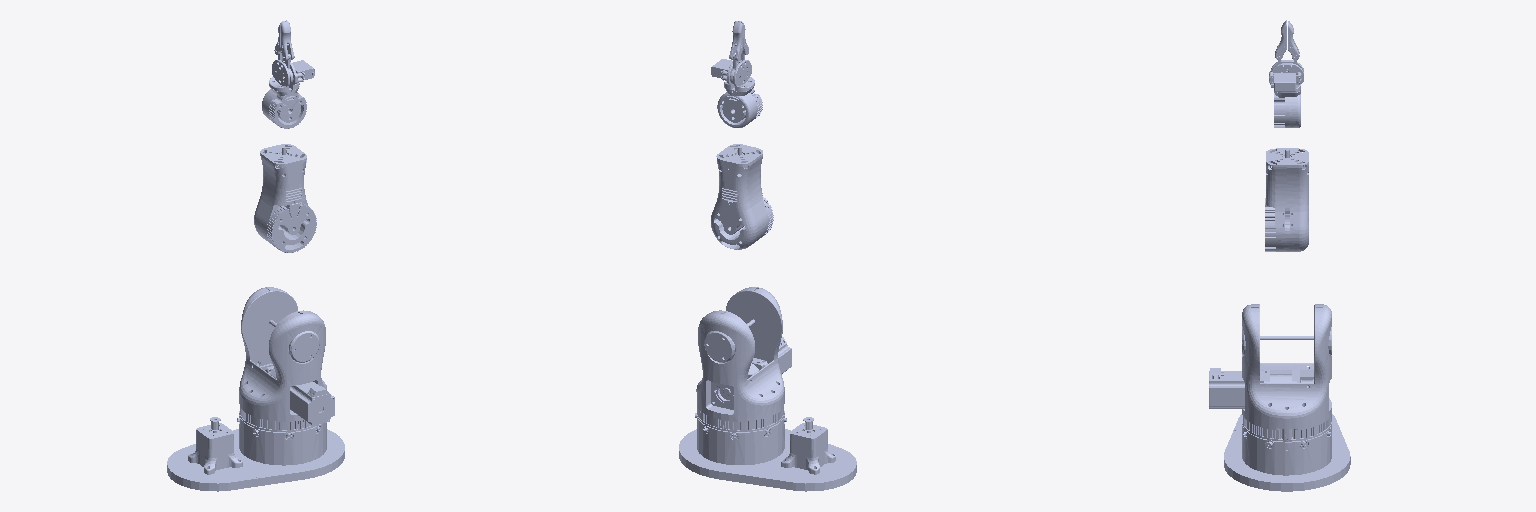
URDF robot description (urdf_v14):
<?xml version="1.0" encoding="utf-8"?>
<!-- This URDF was automatically created by SolidWorks to URDF Exporter! Originally created by [author] ([email redacted]) 
     Commit Version: 1.6.0-4-g7f85cfe  Build Version: 1.6.7995.38578
     For more information, please see http://wiki.ros.org/sw_urdf_exporter -->
<robot
  name="urdf_v14">
  <link
    name="base">
    <inertial>
      <origin
        xyz="-0.0130028990840682 0.00737220231148084 0.0288621094500895"
        rpy="0 0 0" />
      <mass
        value="1.80445500079186" />
      <inertia
        ixx="0.00556780003577727"
        ixy="1.30781796461846E-06"
        ixz="-0.000488105095997363"
        iyy="0.0133501953719257"
        iyz="4.44454278203137E-07"
        izz="0.0165442925617419" />
    </inertial>
    <visual>
      <origin
        xyz="0 0 0"
        rpy="0 0 0" />
      <geometry>
        <mesh
          filename="package://urdf_v14/meshes/base.STL" />
      </geometry>
      <material
        name="">
        <color
          rgba="0.792156862745098 0.819607843137255 0.933333333333333 1" />
      </material>
    </visual>
    <collision>
      <origin
        xyz="0 0 0"
        rpy="0 0 0" />
      <geometry>
        <mesh
          filename="package://urdf_v14/meshes/base.STL" />
      </geometry>
    </collision>
  </link>
  <link
    name="base_link ">
    <inertial>
      <origin
        xyz="0.0321972293709568 -0.00450790666487971 0.341236918647023"
        rpy="0 0 0" />
      <mass
        value="2.09089553432608" />
      <inertia
        ixx="0.0136131889403249"
        ixy="2.90618833897183E-06"
        ixz="-3.06670536445142E-05"
        iyy="0.00966544701473819"
        iyz="-0.00040890472579642"
        izz="0.00889750808908611" />
    </inertial>
    <visual>
      <origin
        xyz="0 0 0"
        rpy="0 0 0" />
      <geometry>
        <mesh
          filename="package://urdf_v14/meshes/base_link .STL" />
      </geometry>
      <material
        name="">
        <color
          rgba="0.792156862745098 0.819607843137255 0.933333333333333 1" />
      </material>
    </visual>
    <collision>
      <origin
        xyz="0 0 0"
        rpy="0 0 0" />
      <geometry>
        <mesh
          filename="package://urdf_v14/meshes/base_link .STL" />
      </geometry>
    </collision>
  </link>
  <joint
    name="joint_1"
    type="continuous">
    <origin
      xyz="-0.00106805874828991 0 -0.178116650409825"
      rpy="0 0 0" />
    <parent
      link="base" />
    <child
      link="base_link " />
    <axis
      xyz="0 0 1" />
  </joint>
  <link
    name="shoulder">
    <inertial>
      <origin
        xyz="0.0327109438247253 0.0090061483727204 0.338475981389051"
        rpy="0 0 0" />
      <mass
        value="1.9311319529274" />
      <inertia
        ixx="0.0170862683816139"
        ixy="3.46358389032188E-06"
        ixz="4.83215863715807E-06"
        iyy="0.0162697573913769"
        iyz="-0.000123095312524171"
        izz="0.00359988578300223" />
    </inertial>
    <visual>
      <origin
        xyz="0 0 0"
        rpy="0 0 0" />
      <geometry>
        <mesh
          filename="package://urdf_v14/meshes/shoulder.STL" />
      </geometry>
      <material
        name="">
        <color
          rgba="0.792156862745098 0.819607843137255 0.933333333333333 1" />
      </material>
    </visual>
    <collision>
      <origin
        xyz="0 0 0"
        rpy="0 0 0" />
      <geometry>
        <mesh
          filename="package://urdf_v14/meshes/shoulder.STL" />
      </geometry>
    </collision>
  </link>
  <joint
    name="joint_2"
    type="continuous">
    <origin
      xyz="0 0 0.166937311025839"
      rpy="0 0 0" />
    <parent
      link="base_link " />
    <child
      link="shoulder" />
    <axis
      xyz="0 1 0" />
  </joint>
  <link
    name="elbow">
    <inertial>
      <origin
        xyz="0.0326670642713736 0.00715912581431416 0.30158523565309"
        rpy="0 0 0" />
      <mass
        value="0.777952679552694" />
      <inertia
        ixx="0.00228134086893177"
        ixy="-7.58975274749229E-08"
        ixz="-7.86405962820521E-06"
        iyy="0.00230093019963911"
        iyz="-3.06257703670829E-05"
        izz="0.00073073367472752" />
    </inertial>
    <visual>
      <origin
        xyz="0 0 0"
        rpy="0 0 0" />
      <geometry>
        <mesh
          filename="package://urdf_v14/meshes/elbow.STL" />
      </geometry>
      <material
        name="">
        <color
          rgba="0.792156862745098 0.819607843137255 0.933333333333333 1" />
      </material>
    </visual>
    <collision>
      <origin
        xyz="0 0 0"
        rpy="0 0 0" />
      <geometry>
        <mesh
          filename="package://urdf_v14/meshes/elbow.STL" />
      </geometry>
    </collision>
  </link>
  <joint
    name="joint_3"
    type="continuous">
    <origin
      xyz="0 0 0.221123792803555"
      rpy="0 0 0" />
    <parent
      link="shoulder" />
    <child
      link="elbow" />
    <axis
      xyz="0 1 0" />
  </joint>
  <link
    name="wrist_1">
    <inertial>
      <origin
        xyz="0.0335604176878077 0.00990372062900691 0.314139265995466"
        rpy="0 0 0" />
      <mass
        value="0.336033424374674" />
      <inertia
        ixx="0.000698625637496854"
        ixy="-1.01631185415773E-06"
        ixz="3.1611007634969E-06"
        iyy="0.000573509159553982"
        iyz="1.12152122482314E-05"
        izz="0.000348769119501591" />
    </inertial>
    <visual>
      <origin
        xyz="0 0 0"
        rpy="0 0 0" />
      <geometry>
        <mesh
          filename="package://urdf_v14/meshes/wrist_1.STL" />
      </geometry>
      <material
        name="">
        <color
          rgba="0.792156862745098 0.819607843137255 0.933333333333333 1" />
      </material>
    </visual>
    <collision>
      <origin
        xyz="0 0 0"
        rpy="0 0 0" />
      <geometry>
        <mesh
          filename="package://urdf_v14/meshes/wrist_1.STL" />
      </geometry>
    </collision>
  </link>
  <joint
    name="joint_4"
    type="continuous">
    <origin
      xyz="0 0.000500999999999197 0.129539254362447"
      rpy="0 0 0" />
    <parent
      link="elbow" />
    <child
      link="wrist_1" />
    <axis
      xyz="0 0 1" />
  </joint>
  <link
    name="wrist_2">
    <inertial>
      <origin
        xyz="0.0336476738493878 0.00774576257756454 0.262759833128953"
        rpy="0 0 0" />
      <mass
        value="0.158623996627696" />
      <inertia
        ixx="8.93586388886451E-05"
        ixy="-5.51302960471509E-09"
        ixz="-1.3377108412577E-07"
        iyy="0.00010631852912948"
        iyz="-6.19861774850427E-07"
        izz="7.50986760103092E-05" />
    </inertial>
    <visual>
      <origin
        xyz="0 0 0"
        rpy="0 0 0" />
      <geometry>
        <mesh
          filename="package://urdf_v14/meshes/wrist_2.STL" />
      </geometry>
      <material
        name="">
        <color
          rgba="0.792156862745098 0.819607843137255 0.933333333333333 1" />
      </material>
    </visual>
    <collision>
      <origin
        xyz="0 0 0"
        rpy="0 0 0" />
      <geometry>
        <mesh
          filename="package://urdf_v14/meshes/wrist_2.STL" />
      </geometry>
    </collision>
  </link>
  <joint
    name="joint_5"
    type="continuous">
    <origin
      xyz="0 0 0.0989607456375549"
      rpy="0 0 0" />
    <parent
      link="wrist_1" />
    <child
      link="wrist_2" />
    <axis
      xyz="0 1 0" />
  </joint>
  <link
    name="gripper_base">
    <inertial>
      <origin
        xyz="0.049310734264296 0.00595051508193845 0.987870668668528"
        rpy="0 0 0" />
      <mass
        value="0.0669550620915273" />
      <inertia
        ixx="2.24619079422005E-05"
        ixy="2.35944484334568E-06"
        ixz="-2.80744907463445E-06"
        iyy="3.18452557805142E-05"
        iyz="3.46640737232404E-07"
        izz="3.67915443984289E-05" />
    </inertial>
    <visual>
      <origin
        xyz="0 0 0"
        rpy="0 0 0" />
      <geometry>
        <mesh
          filename="package://urdf_v14/meshes/gripper_base.STL" />
      </geometry>
      <material
        name="">
        <color
          rgba="0.792156862745098 0.819607843137255 0.933333333333333 1" />
      </material>
    </visual>
    <collision>
      <origin
        xyz="0 0 0"
        rpy="0 0 0" />
      <geometry>
        <mesh
          filename="package://urdf_v14/meshes/gripper_base.STL" />
      </geometry>
    </collision>
  </link>
  <joint
    name="joint_6"
    type="fixed">
    <origin
      xyz="0 -0.000501000000000529 -0.666561103829396"
      rpy="0 0 0" />
    <parent
      link="wrist_2" />
    <child
      link="gripper_base" />
    <axis
      xyz="0 0 0" />
  </joint>
  <link
    name="gear1">
    <inertial>
      <origin
        xyz="0.0205215425307574 -0.168935803411292 -0.0148668300200882"
        rpy="0 0 0" />
      <mass
        value="0.0043827310815076" />
      <inertia
        ixx="9.89298062105413E-07"
        ixy="3.939807965992E-09"
        ixz="-9.62445280927115E-10"
        iyy="1.88757936769923E-07"
        iyz="4.03528750728449E-08"
        izz="8.26425730216098E-07" />
    </inertial>
    <visual>
      <origin
        xyz="0 0 0"
        rpy="0 0 0" />
      <geometry>
        <mesh
          filename="package://urdf_v14/meshes/gear1.STL" />
      </geometry>
      <material
        name="">
        <color
          rgba="0.792156862745098 0.819607843137255 0.933333333333333 1" />
      </material>
    </visual>
    <collision>
      <origin
        xyz="0 0 0"
        rpy="0 0 0" />
      <geometry>
        <mesh
          filename="package://urdf_v14/meshes/gear1.STL" />
      </geometry>
    </collision>
  </link>
  <joint
    name="joint_7"
    type="continuous">
    <origin
      xyz="0.012918 0.0098964 0.83019"
      rpy="-1.557 0.0046185 0.0046825" />
    <parent
      link="gripper_base" />
    <child
      link="gear1" />
    <axis
      xyz="0.99999 0 -0.0046829" />
  </joint>
  <link
    name="leg1-1">
    <inertial>
      <origin
        xyz="0.0277829222233545 -0.0168341353236492 0.208304045603814"
        rpy="0 0 0" />
      <mass
        value="0.0106754301777324" />
      <inertia
        ixx="4.10204619035355E-06"
        ixy="-4.70379078915132E-09"
        ixz="-2.62404591930172E-08"
        iyy="4.17675992343615E-06"
        iyz="-6.39733993511733E-07"
        izz="5.77343753638436E-07" />
    </inertial>
    <visual>
      <origin
        xyz="0 0 0"
        rpy="0 0 0" />
      <geometry>
        <mesh
          filename="package://urdf_v14/meshes/leg1-1.STL" />
      </geometry>
      <material
        name="">
        <color
          rgba="0.792156862745098 0.819607843137255 0.933333333333333 1" />
      </material>
    </visual>
    <collision>
      <origin
        xyz="0 0 0"
        rpy="0 0 0" />
      <geometry>
        <mesh
          filename="package://urdf_v14/meshes/leg1-1.STL" />
      </geometry>
    </collision>
  </link>
  <joint
    name="joint_11"
    type="fixed">
    <origin
      xyz="-0.0058669 -0.019902 0.0073019"
      rpy="1.557 0.0046185 -0.0046825" />
    <parent
      link="gear1" />
    <child
      link="leg1-1" />
    <axis
      xyz="0 0 0" />
  </joint>
  <link
    name="gear2">
    <inertial>
      <origin
        xyz="-0.0205581092910689 -0.16849483490091 0.0173938197511343"
        rpy="0 0 0" />
      <mass
        value="0.00438273108004801" />
      <inertia
        ixx="9.89301799259922E-07"
        ixy="-3.56118651444805E-09"
        ixz="-5.63487963012307E-10"
        iyy="1.88757882873171E-07"
        iyz="4.03876171884194E-08"
        izz="8.2642203815549E-07" />
    </inertial>
    <visual>
      <origin
        xyz="0 0 0"
        rpy="0 0 0" />
      <geometry>
        <mesh
          filename="package://urdf_v14/meshes/gear2.STL" />
      </geometry>
      <material
        name="">
        <color
          rgba="0.792156862745098 0.819607843137255 0.933333333333333 1" />
      </material>
    </visual>
    <collision>
      <origin
        xyz="0 0 0"
        rpy="0 0 0" />
      <geometry>
        <mesh
          filename="package://urdf_v14/meshes/gear2.STL" />
      </geometry>
    </collision>
  </link>
  <joint
    name="joint_8"
    type="continuous">
    <origin
      xyz="0.012869 0.037896 0.83019"
      rpy="-1.5571 -0.0047473 -3.1369" />
    <parent
      link="gripper_base" />
    <child
      link="gear2" />
    <axis
      xyz="0.99999 0 -0.0046829" />
    <mimic
      joint="joint_7"
      multiplier="-1"
      offset="0" />
  </joint>
  <link
    name="leg2-1">
    <inertial>
      <origin
        xyz="-0.0170794888195855 -0.0337938581330979 0.925503882362231"
        rpy="0 0 0" />
      <mass
        value="0.0106754458917493" />
      <inertia
        ixx="4.10223059491318E-06"
        ixy="1.28717779608394E-09"
        ixz="6.76672634003215E-09"
        iyy="4.1767521662296E-06"
        iyz="-6.39776017198555E-07"
        izz="5.77171185726481E-07" />
    </inertial>
    <visual>
      <origin
        xyz="0 0 0"
        rpy="0 0 0" />
      <geometry>
        <mesh
          filename="package://urdf_v14/meshes/leg2-1.STL" />
      </geometry>
      <material
        name="">
        <color
          rgba="0.792156862745098 0.819607843137255 0.933333333333333 1" />
      </material>
    </visual>
    <collision>
      <origin
        xyz="0 0 0"
        rpy="0 0 0" />
      <geometry>
        <mesh
          filename="package://urdf_v14/meshes/leg2-1.STL" />
      </geometry>
    </collision>
  </link>
  <joint
    name="joint_12"
    type="fixed">
    <origin
      xyz="0.00074747 0.69769 0.046439"
      rpy="1.557 0.0046185 -0.0046825" />
    <parent
      link="gear2" />
    <child
      link="leg2-1" />
    <axis
      xyz="0 0 0" />
  </joint>
</robot>

--- What the picture shows (computed from the rendered views, not written in the file) ---
Views: 3 orthographic renders of the robot side by side, from view 1: azimuth 30°, elevation 25°; view 2: azimuth 150°, elevation 25°; view 3: azimuth 270°, elevation 25°.
Robot: urdf_v14 — 11 links, 10 joints (7 continuous, 3 fixed); root link base; default pose: every joint at zero.
Links seen in each view (by area): view 1: base_link, base, elbow, wrist_2, gripper_base; view 2: base_link, base, elbow, wrist_2, gripper_base; view 3: base_link, base, elbow, gripper_base, wrist_2.
Link boxes in pixels (bbox=[...]): base_link: bbox=[239, 287, 334, 431]; base: bbox=[167, 415, 344, 491]; elbow: bbox=[254, 144, 316, 252]; wrist_2: bbox=[262, 86, 306, 128]; gripper_base: bbox=[269, 60, 314, 91]; base_link: bbox=[696, 287, 791, 431]; base: bbox=[679, 413, 856, 491]; elbow: bbox=[711, 144, 773, 249]; wrist_2: bbox=[717, 87, 762, 127]; gripper_base: bbox=[711, 59, 754, 91]; base_link: bbox=[1209, 304, 1331, 441]; base: bbox=[1224, 414, 1350, 491]; elbow: bbox=[1265, 148, 1308, 251]; gripper_base: bbox=[1269, 60, 1303, 92]; wrist_2: bbox=[1274, 90, 1300, 127].
Size in the robot's own frame: 0.3416 by 0.2501 by 0.868 metres.
Meshes: 11 distinct files referenced, 9 mesh visuals loaded (9 binary STL); not drawn: 2 (reference not matched to a file when rendering).